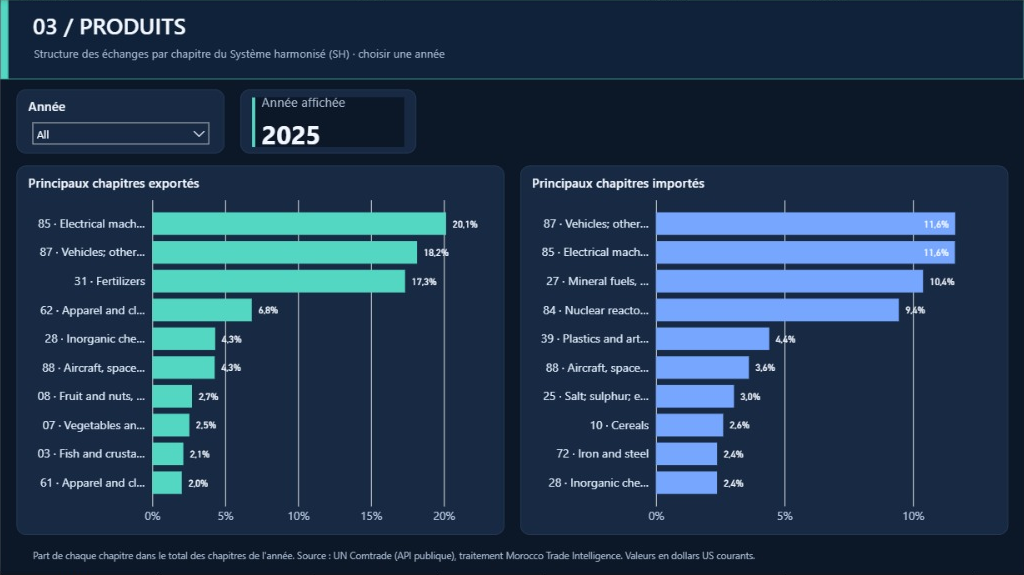

The dashboard page shown, as its layout file describes it:
{"tool":"powerbi","page":{"name":"Produits","canvas":[1280,720],"ordinal":2},"visuals":[{"type":"shape","box":[0,0,1280,100],"z":100},{"type":"shape","box":[0,0,10,100],"z":200},{"type":"textbox","box":[40,14,1100,44],"z":300},{"type":"textbox","box":[42,58,1180,30],"z":400},{"type":"textbox","box":[40,684,1200,28],"z":500},{"type":"slicer","title":"Année","fields":{"Values":["dim_year.year"]},"box":[20,112,260,80],"z":600},{"type":"cardVisual","fields":{"Data":["dim_year.Année affichée"]},"box":[300,112,220,80],"z":700},{"type":"clusteredBarChart","title":"Principaux chapitres exportés","fields":{"Category":["mart_chapter_structure.chapter_label"],"Y":["mart_chapter_structure.Part des exportations par chapitre (top 10)"]},"box":[20,208,610,462],"z":800},{"type":"clusteredBarChart","title":"Principaux chapitres importés","fields":{"Category":["mart_chapter_structure.chapter_label"],"Y":["mart_chapter_structure.Part des importations par chapitre (top 10)"]},"box":[650,208,610,462],"z":900}]}

Visuals, with their boxes in screenshot pixels (x1, y1, x2, y2), scaled from the page's 1280x720 canvas onto the 1024x575 screenshot:
shape: <region>0, 0, 1023, 80</region>
shape: <region>0, 0, 8, 80</region>
textbox: <region>32, 11, 912, 46</region>
textbox: <region>34, 46, 978, 70</region>
textbox: <region>32, 546, 992, 569</region>
"Année" slicer: <region>16, 89, 224, 153</region>
cardVisual - dim_year.Année affichée: <region>240, 89, 416, 153</region>
"Principaux chapitres exportés" clusteredBarChart: <region>16, 166, 504, 535</region>
"Principaux chapitres importés" clusteredBarChart: <region>520, 166, 1008, 535</region>
